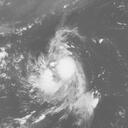cyclone: (28, 44, 90, 110)
